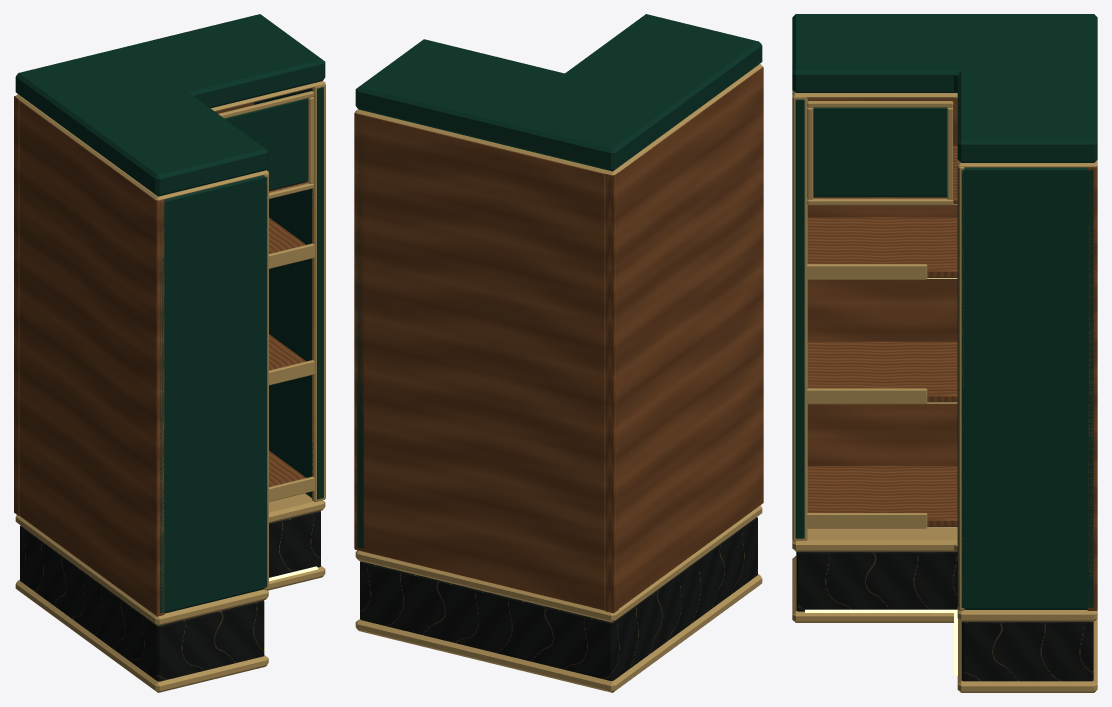
The picture shows the model from 3 angles, left to right: view 1: azimuth 30°, elevation 25°; view 2: azimuth 150°, elevation 25°; view 3: azimuth 270°, elevation 25°; orthographic projection. The views are drawn at different scales.
Parts seen in each view (by area): view 1: cabinet_back_B, cabinet_end_B, cabinet_crown, cabinet_stone_base, cabinet_end_A, brand_header_front_panel, trim_base_top, trim_base_plinth, trim_front_A, cabinet_corner_spine, trim_crown_lip, trim_front_B (+8 smaller); view 2: cabinet_back_A, cabinet_back_B, cabinet_crown, cabinet_stone_base, cabinet_corner_spine, trim_base_plinth, trim_base_top, trim_crown_lip, cabinet_end_A; view 3: cabinet_end_A, cabinet_crown, cabinet_back_B, cabinet_stone_base, brand_header_side_panel, shelf_2, shelf_1, shelf_3, trim_base_top, cabinet_end_B, trim_base_plinth, trim_front_B (+12 smaller).
Boxes of the visible parts, x1=… form: cabinet_back_B: x1=19, y1=100, x2=164, y2=616; cabinet_end_B: x1=152, y1=175, x2=267, y2=613; cabinet_crown: x1=15, y1=14, x2=325, y2=196; cabinet_stone_base: x1=20, y1=511, x2=320, y2=681; cabinet_end_A: x1=254, y1=87, x2=323, y2=499; brand_header_front_panel: x1=225, y1=98, x2=307, y2=190; trim_base_top: x1=15, y1=493, x2=325, y2=625; trim_base_plinth: x1=15, y1=566, x2=325, y2=692; trim_front_A: x1=312, y1=84, x2=325, y2=501; cabinet_corner_spine: x1=14, y1=96, x2=19, y2=515; trim_crown_lip: x1=15, y1=81, x2=325, y2=200; trim_front_B: x1=264, y1=173, x2=268, y2=589; cabinet_back_A: x1=354, y1=112, x2=605, y2=610; cabinet_back_B: x1=619, y1=66, x2=763, y2=608; cabinet_crown: x1=355, y1=14, x2=762, y2=171; cabinet_stone_base: x1=360, y1=517, x2=757, y2=680; cabinet_corner_spine: x1=605, y1=172, x2=618, y2=613; trim_base_plinth: x1=355, y1=574, x2=762, y2=692; trim_base_top: x1=355, y1=505, x2=762, y2=622; trim_crown_lip: x1=355, y1=64, x2=762, y2=175; cabinet_end_A: x1=357, y1=117, x2=363, y2=548; cabinet_end_A: x1=957, y1=166, x2=1093, y2=609; cabinet_crown: x1=792, y1=14, x2=1097, y2=162; cabinet_back_B: x1=807, y1=98, x2=957, y2=465; cabinet_stone_base: x1=796, y1=551, x2=1093, y2=681; brand_header_side_panel: x1=813, y1=107, x2=946, y2=197; shelf_2: x1=807, y1=341, x2=957, y2=402; shelf_1: x1=807, y1=466, x2=957, y2=527; shelf_3: x1=807, y1=217, x2=957, y2=278; trim_base_top: x1=792, y1=527, x2=1097, y2=621; cabinet_end_B: x1=795, y1=99, x2=804, y2=538; trim_base_plinth: x1=792, y1=556, x2=1097, y2=692; trim_front_B: x1=792, y1=96, x2=807, y2=540.
Bounding box in the file's own units: 1.2 × 2.4 × 1.2.
6 materials, 3 textured.
